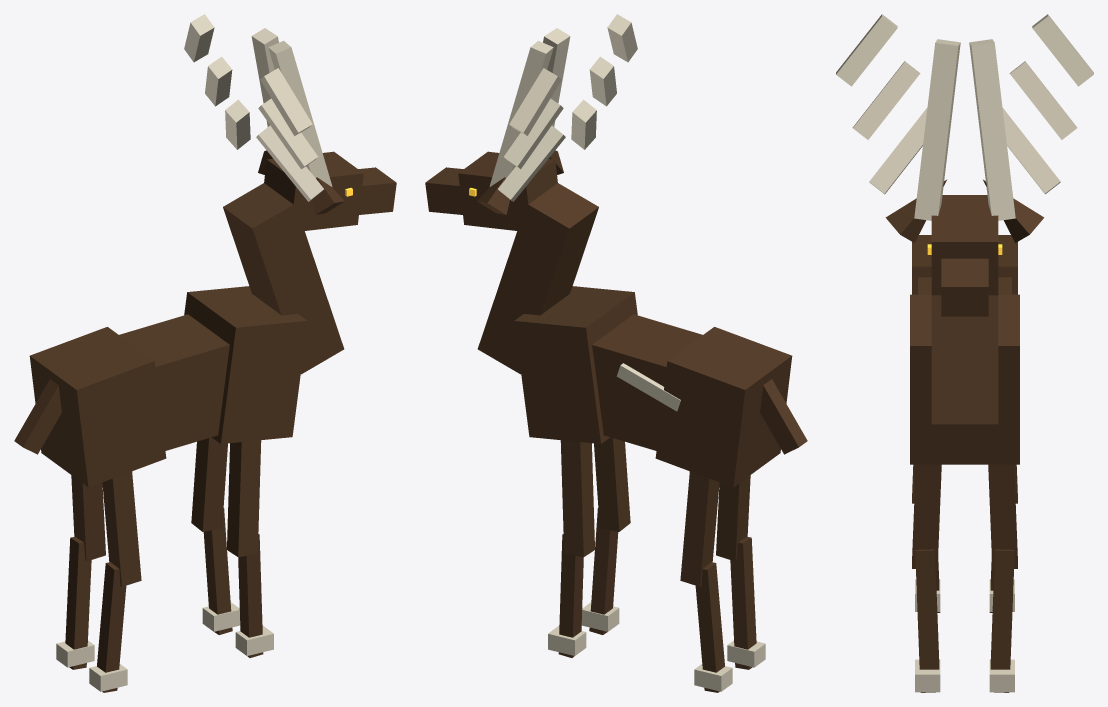
File: stag_beneath_abbey_lowpoly.glb
The picture shows the model from 3 angles, left to right: view 1: azimuth 30°, elevation 25°; view 2: azimuth 150°, elevation 25°; view 3: azimuth 270°, elevation 25°; orthographic projection. The views are drawn at different scales.
Parts seen in each view (by area): view 1: haunches, shoulders, neck, torso, stilt_legs_upper_1, head, stilt_legs_upper_3, stilt_legs_upper_0, stilt_legs_lower_2, stilt_legs_lower_3, stilt_legs_upper_2, stilt_legs_lower_0 (+16 smaller); view 2: haunches, shoulders, neck, torso, stilt_legs_upper_0, head, stilt_legs_upper_2, stilt_legs_upper_1, stilt_legs_lower_3, stilt_legs_lower_2, stilt_legs_upper_3, stilt_legs_lower_1 (+17 smaller); view 3: shoulders, neck, head, antler_crown_beam_0, antler_crown_beam_1, muzzle, stilt_legs_lower_0, stilt_legs_lower_1, stilt_legs_upper_0, stilt_legs_upper_1, haunches, antler_crown_tine_0_1 (+10 smaller).
Part boxes in pixels (bbox=[...]): haunches: bbox=[29, 327, 166, 487]; shoulders: bbox=[184, 286, 307, 443]; neck: bbox=[223, 183, 344, 374]; torso: bbox=[119, 314, 229, 450]; stilt_legs_upper_1: bbox=[227, 440, 261, 557]; head: bbox=[264, 151, 363, 230]; stilt_legs_upper_3: bbox=[102, 471, 141, 586]; stilt_legs_upper_0: bbox=[191, 437, 227, 531]; stilt_legs_lower_2: bbox=[65, 537, 91, 669]; stilt_legs_lower_3: bbox=[97, 562, 126, 692]; stilt_legs_upper_2: bbox=[71, 475, 105, 561]; stilt_legs_lower_0: bbox=[203, 508, 232, 634]; haunches: bbox=[655, 327, 792, 487]; shoulders: bbox=[514, 286, 637, 443]; neck: bbox=[477, 183, 598, 374]; torso: bbox=[592, 314, 702, 450]; stilt_legs_upper_0: bbox=[560, 440, 594, 557]; head: bbox=[458, 151, 557, 230]; stilt_legs_upper_2: bbox=[680, 471, 719, 586]; stilt_legs_upper_1: bbox=[594, 437, 630, 531]; stilt_legs_lower_3: bbox=[730, 537, 756, 669]; stilt_legs_lower_2: bbox=[695, 562, 724, 692]; stilt_legs_upper_3: bbox=[716, 475, 750, 561]; stilt_legs_lower_1: bbox=[589, 508, 618, 634]; shoulders: bbox=[910, 294, 1019, 464]; neck: bbox=[931, 295, 998, 424]; head: bbox=[931, 195, 998, 295]; antler_crown_beam_0: bbox=[969, 39, 1015, 220]; antler_crown_beam_1: bbox=[914, 39, 960, 220]; muzzle: bbox=[941, 258, 988, 316]; stilt_legs_lower_0: bbox=[990, 549, 1014, 692]; stilt_legs_lower_1: bbox=[915, 549, 939, 692]; stilt_legs_upper_0: bbox=[988, 464, 1017, 569]; stilt_legs_upper_1: bbox=[912, 464, 941, 569]; haunches: bbox=[912, 235, 1017, 294]; antler_crown_tine_0_1: bbox=[1009, 61, 1077, 139].
Size of what is drawn, in the model's own units: 2.44 by 3.8 by 1.31.
